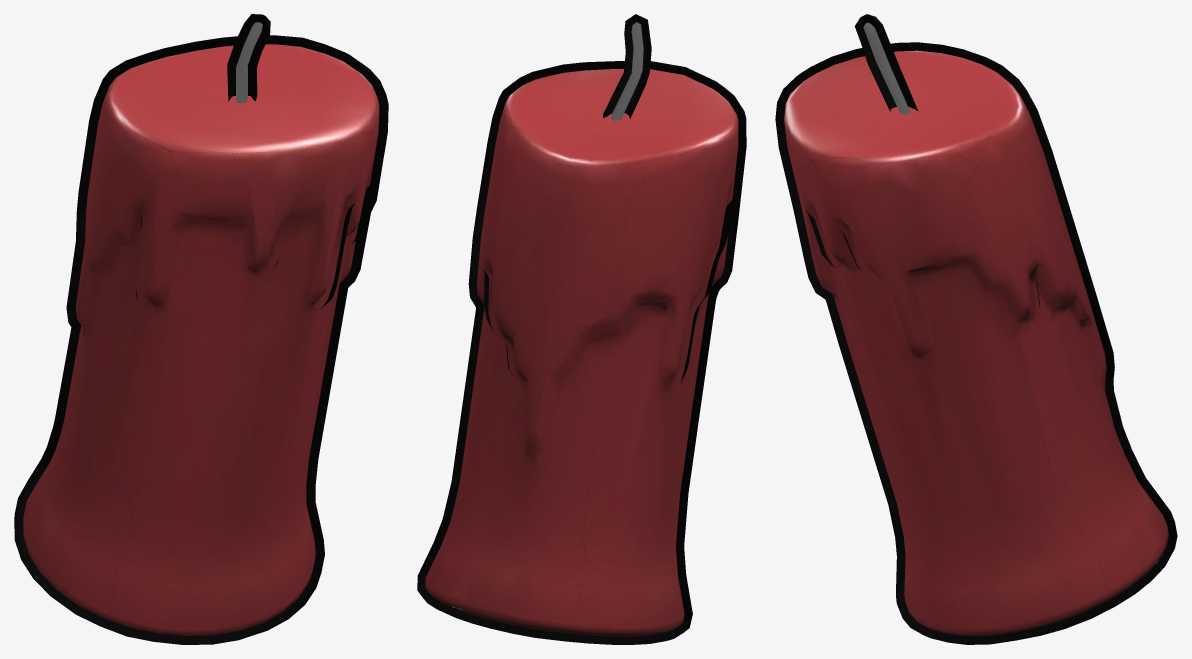
Rendered from red candle.glb.
The picture shows the model from 3 angles, left to right: view 1: azimuth 30°, elevation 25°; view 2: azimuth 150°, elevation 25°; view 3: azimuth 270°, elevation 25°; orthographic projection. The views are drawn at different scales.
Parts seen in each view (by area): view 1: Cylinder, Cylinder.001; view 2: Cylinder, Cylinder.001; view 3: Cylinder, Cylinder.001.
Part boxes in pixels (<box>): Cylinder: <box>23,22,379,635</box>; Cylinder.001: <box>14,14,388,644</box>; Cylinder: <box>425,22,738,636</box>; Cylinder.001: <box>417,14,746,644</box>; Cylinder: <box>784,22,1168,636</box>; Cylinder.001: <box>775,14,1177,644</box>.
Bounding box in the file's own units: 0.1765 × 0.3996 × 0.2444.
3 materials, 1 textured.
